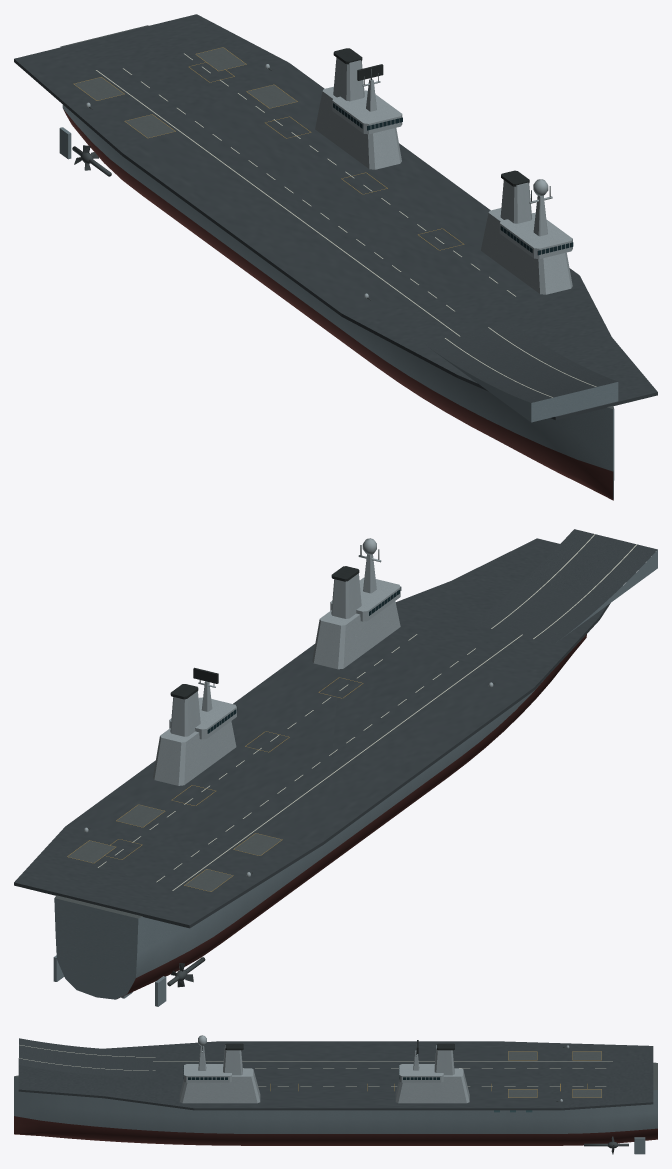
File: wings_queen_elizabeth_class.glb
3 views of the same model, one above another, from view 1: azimuth 30°, elevation 25°; view 2: azimuth 150°, elevation 25°; view 3: azimuth 270°, elevation 25° (orthographic). The views are drawn at different scales.
Parts seen in each view (by area): view 1: static_hull_deck_superstructure; view 2: static_hull_deck_superstructure; view 3: static_hull_deck_superstructure.
Part boxes in pixels (x1=…): static_hull_deck_superstructure: x1=14, y1=14, x2=657, y2=500; static_hull_deck_superstructure: x1=14, y1=529, x2=657, y2=1006; static_hull_deck_superstructure: x1=14, y1=1035, x2=657, y2=1154.
Bounding box in the file's own units: 70 × 61.46 × 284.
Materials: 1 (1 with a texture image).
